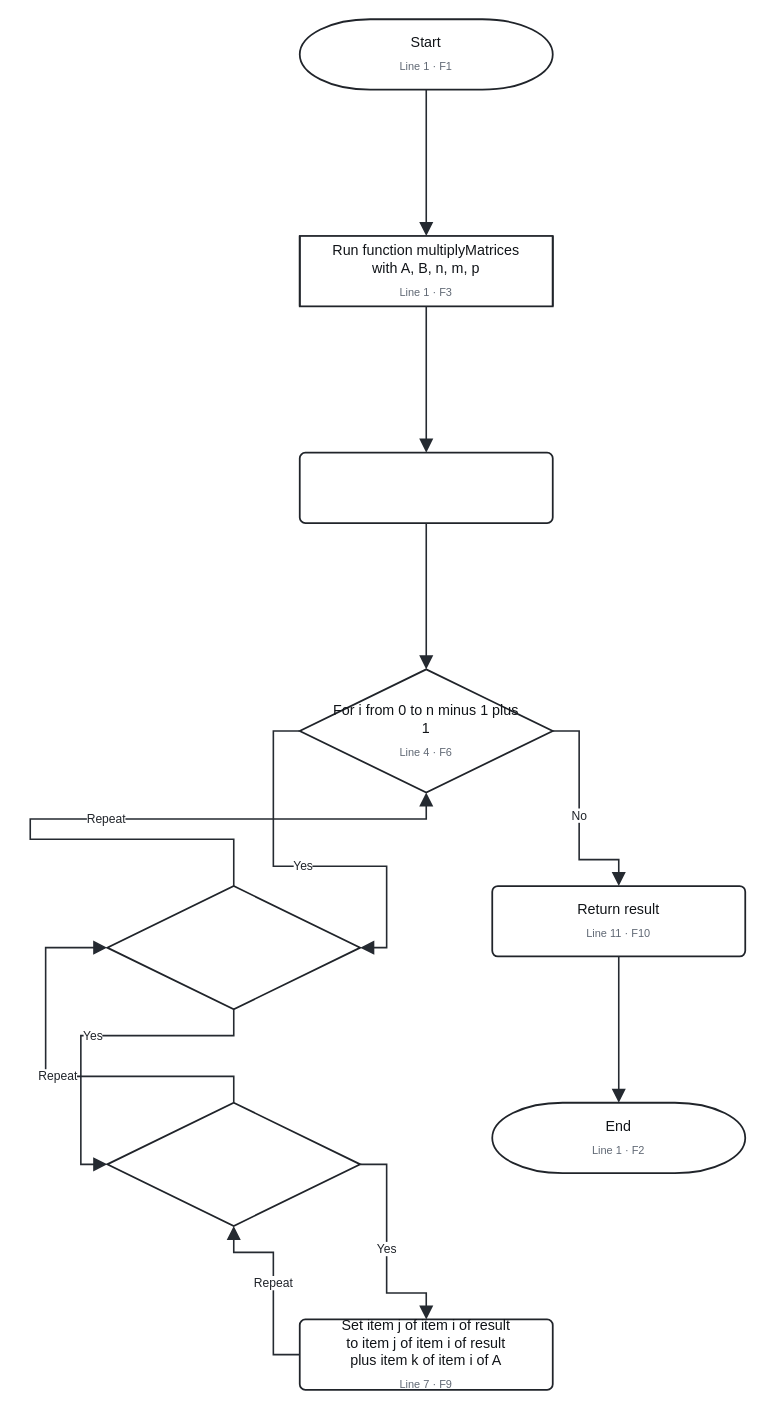
Image size: 766x1412. Some labels were removed from this diagram. Each missing label, with the centre of its shape:
"For j from 0 to p minus 1 plus 1 Line 5 · F7" goes at [233,947].
"For k from 0 to m minus 1 plus 1 Line 6 · F8" goes at [233,1163].
"Set result to the result of create_matrix(n, p, 0) Line 3 · F5" goes at [425,487].
